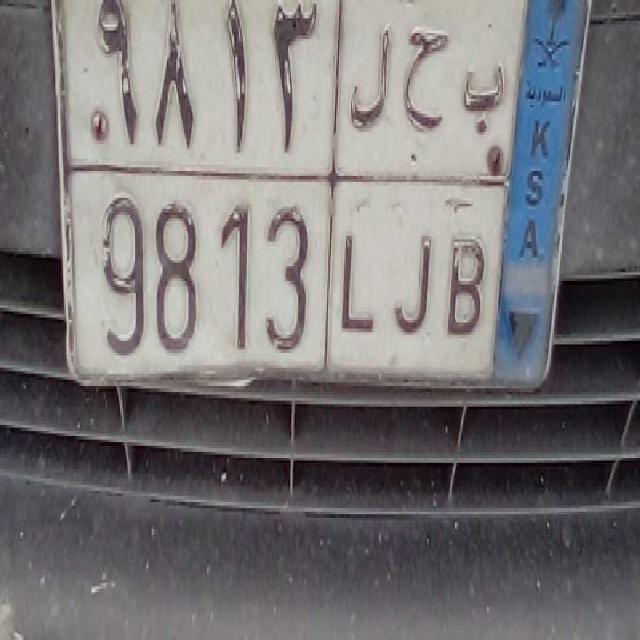license_plate: (67, 155, 494, 391)
